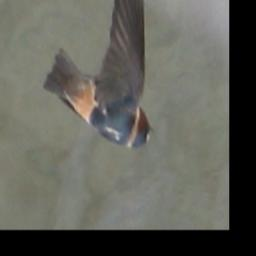Swallow: (42, 0, 154, 157)
